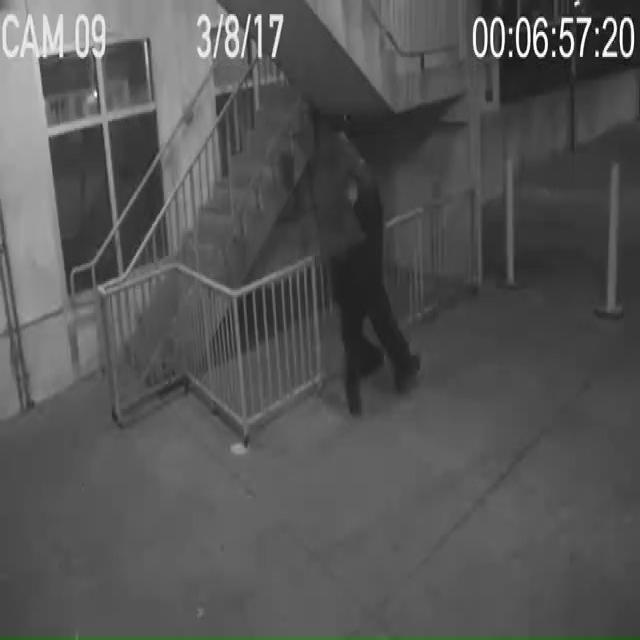fight: (274, 101, 436, 443)
